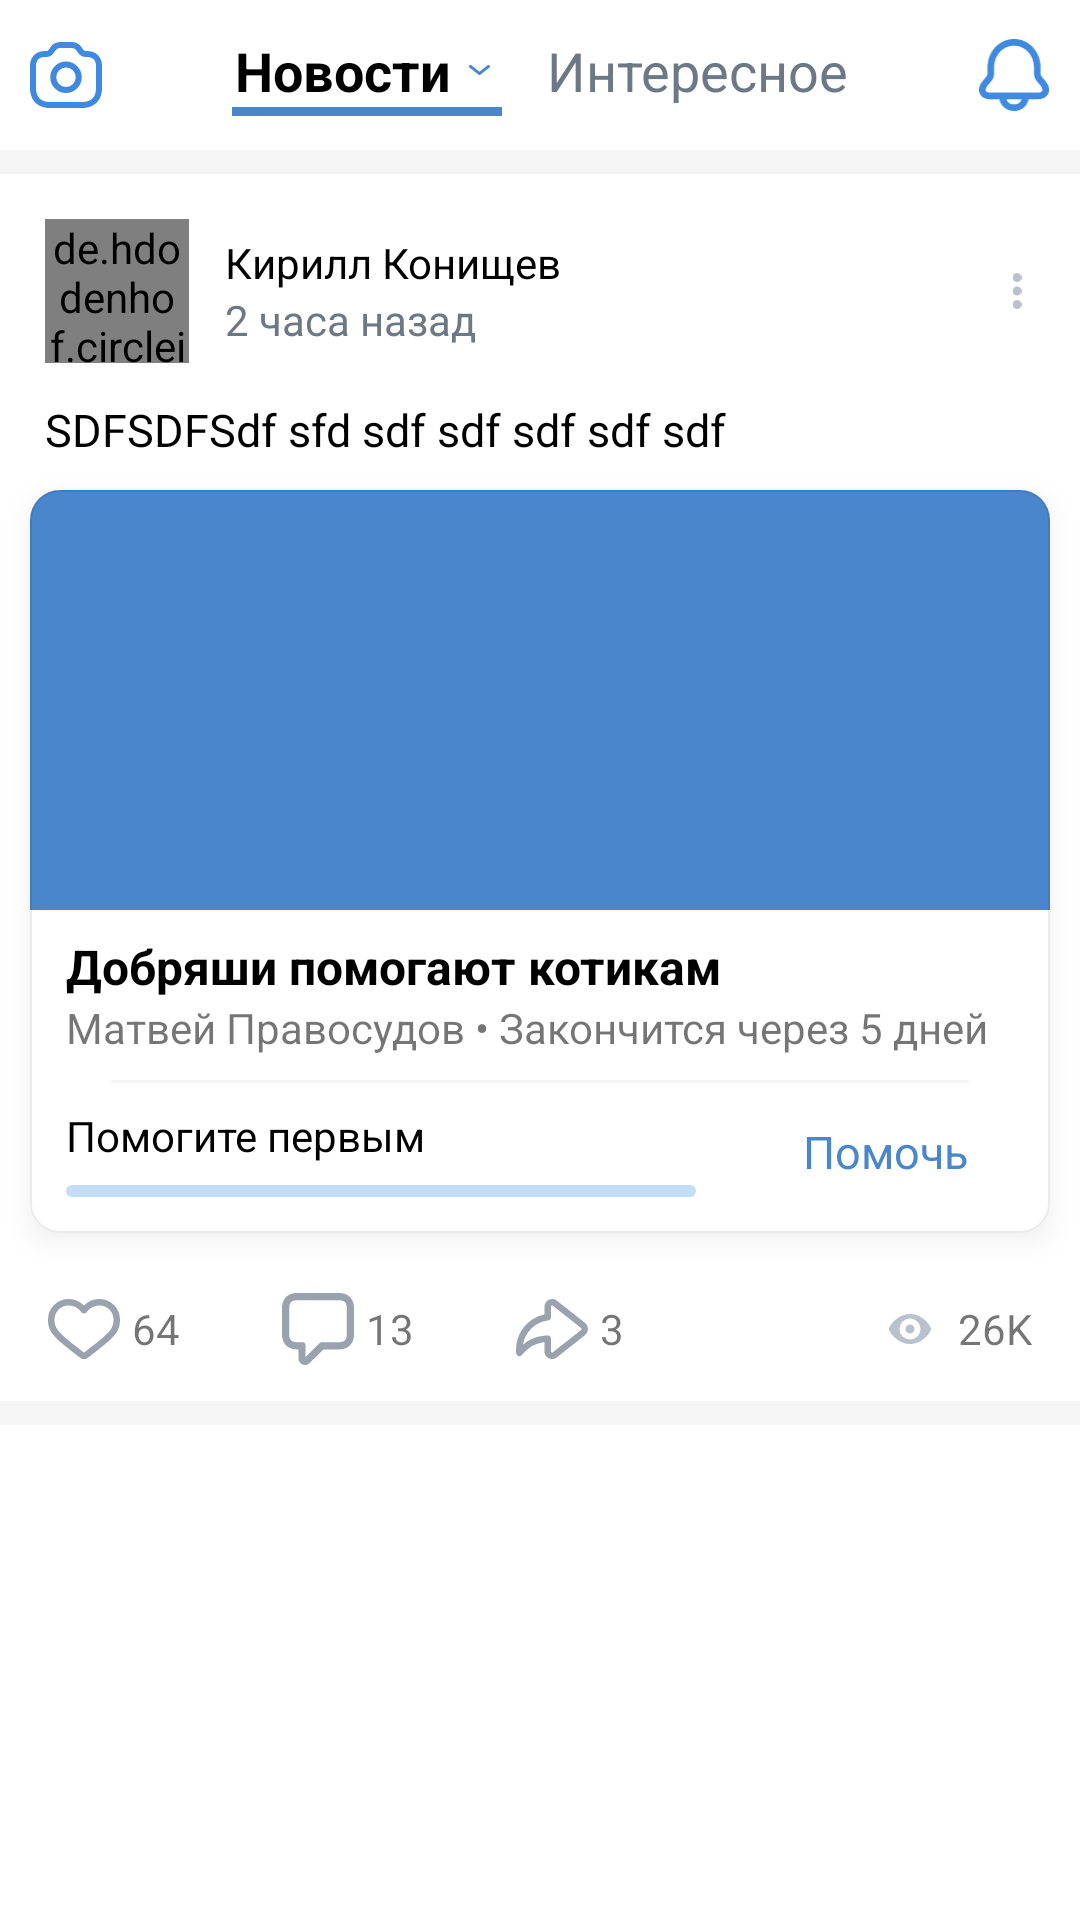

Icons on this 1080px x 1920px Android screen, each with the point to tap as point (x, y):
comment: point (318, 1329)
like: point (84, 1329)
notification: point (1014, 75)
photo: point (66, 75)
share: point (552, 1329)
views: point (910, 1329)
